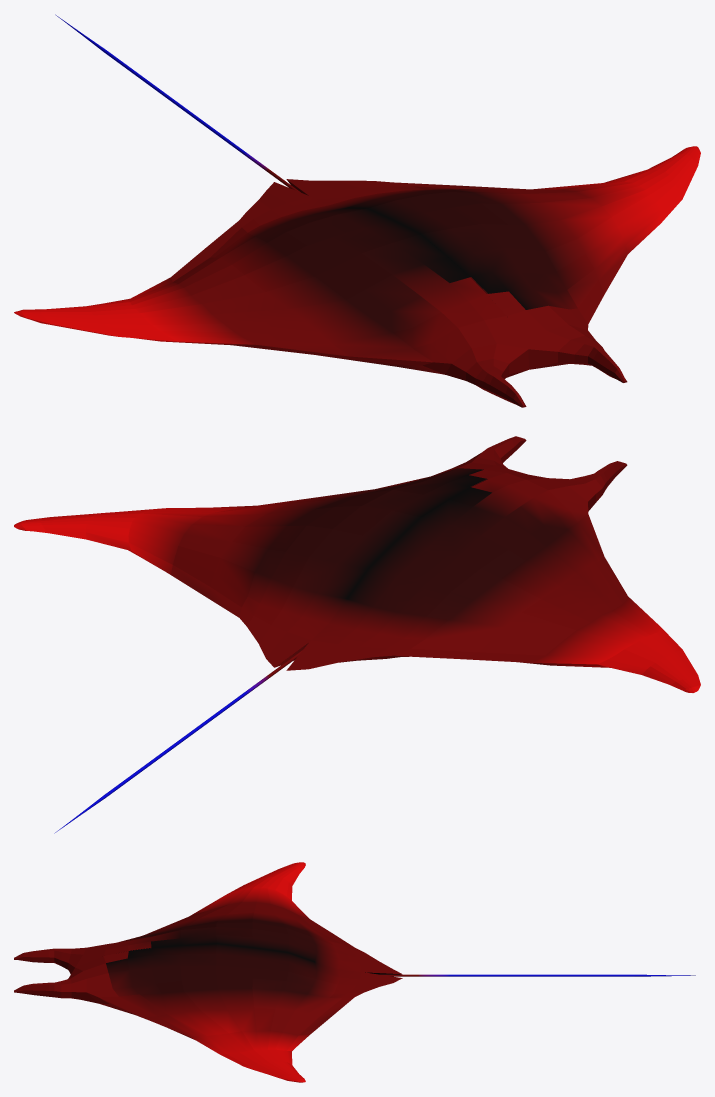
Rendered from mobulaRed.fbx.
3 views of the same model, one above another, from view 1: azimuth 30°, elevation 25°; view 2: azimuth 150°, elevation 25°; view 3: azimuth 270°, elevation 25° (orthographic). The views are drawn at different scales.
Visible parts, largest first — view 1: Cube; view 2: Cube; view 3: Cube.
Part boxes in pixels (bbox=[...]): Cube: bbox=[14, 14, 700, 407]; Cube: bbox=[14, 436, 700, 833]; Cube: bbox=[14, 862, 695, 1082].
Size of the model in its own units: 1192 by 143 by 1574.
